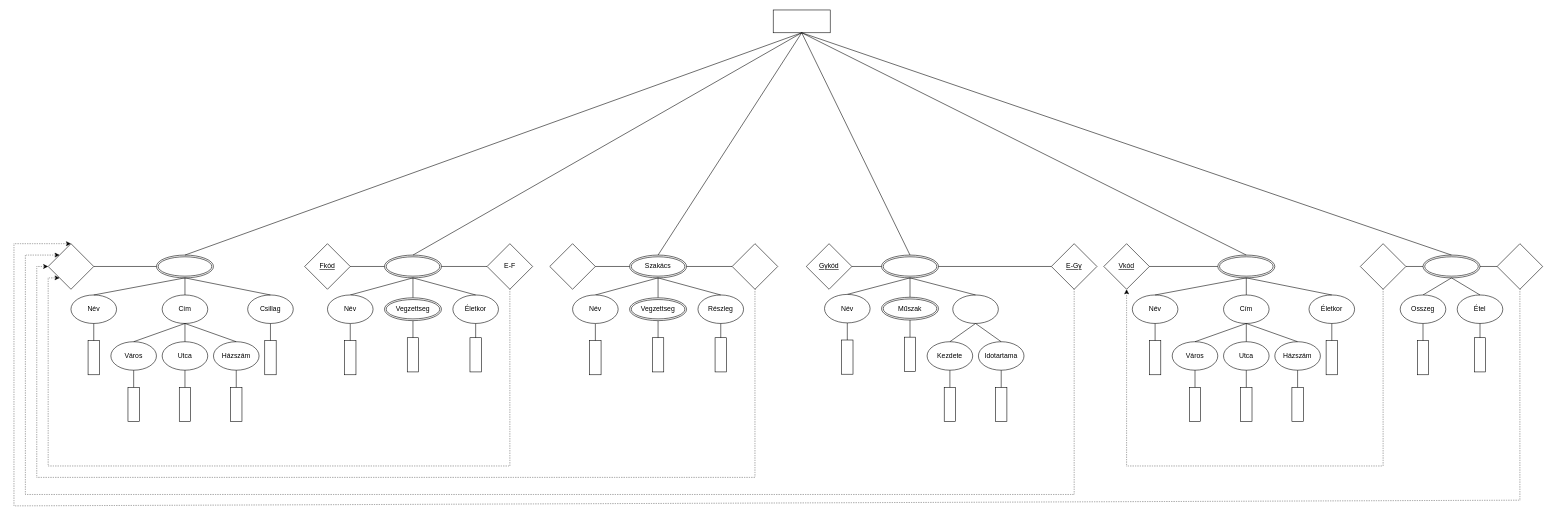
Image size: 1553x520. Some labels were removed from this diagram. The centre of each missing label's shape, as x and y in pixels:
"E-Sz" goes at [755,266].
"Ekód" goes at [71,266].
"Főszakács" goes at [412,266].
"Gyakorlat" goes at [975,308].
"Gyakornok" goes at [910,266].
"Rendelés" goes at [1451,266].
"Szkód" goes at [572,266].
"Vendég" goes at [1246,266].
"Vendéglátás" goes at [801,21].
"Étterem" goes at [184,266].
